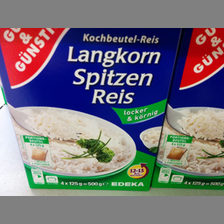rice: (1, 28, 183, 192), (150, 28, 224, 190)
